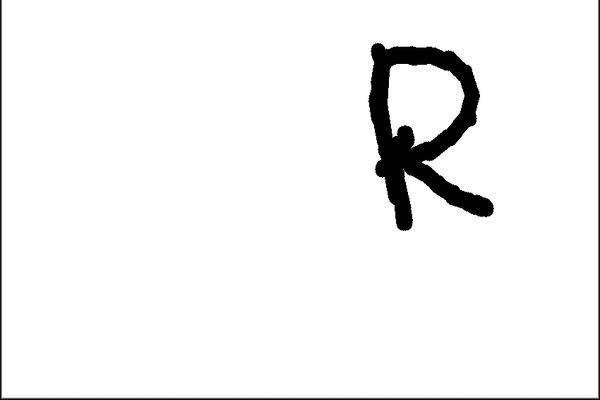R: (353, 37, 503, 237)
